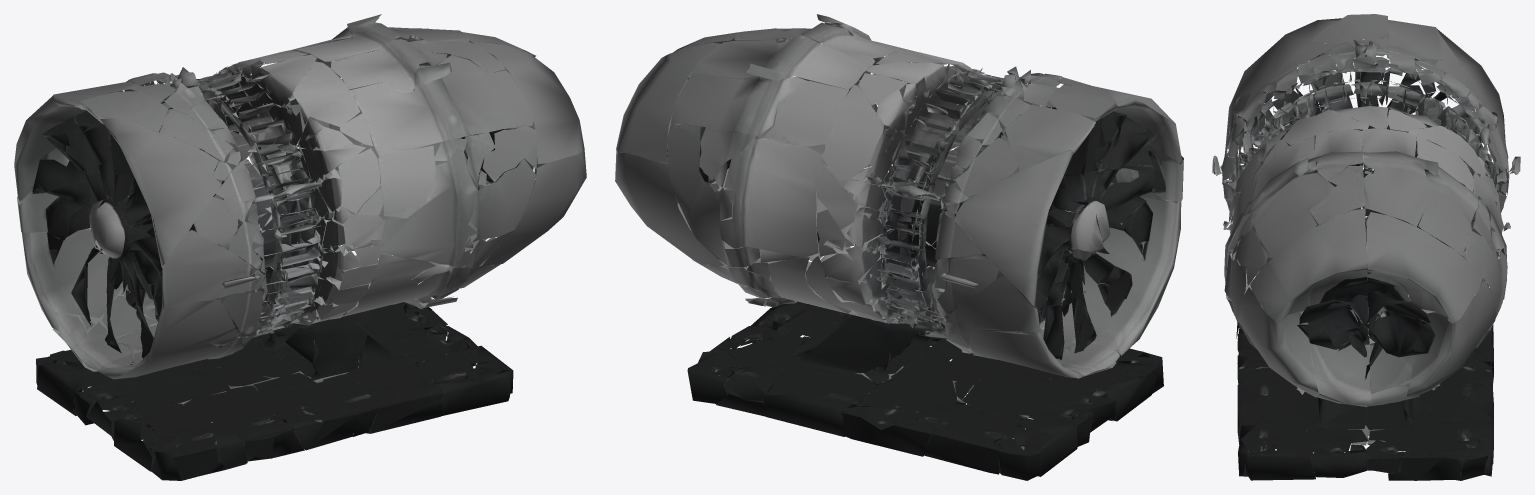
The model's file is co_engine.glb.
3 views of the same model, side by side, from view 1: azimuth 30°, elevation 25°; view 2: azimuth 150°, elevation 25°; view 3: azimuth 270°, elevation 25° (orthographic). The views are drawn at different scales.
Parts seen in each view (by area): view 1: Mesh_0; view 2: Mesh_0; view 3: Mesh_0.
Boxes of the visible parts, x1,y1,x2,y2 form: Mesh_0: (14, 14, 586, 480); Mesh_0: (615, 14, 1183, 480); Mesh_0: (1212, 14, 1520, 480).
Size of the model in its own units: 1.9 by 1.38 by 1.21.
1 material, 1 textured.
